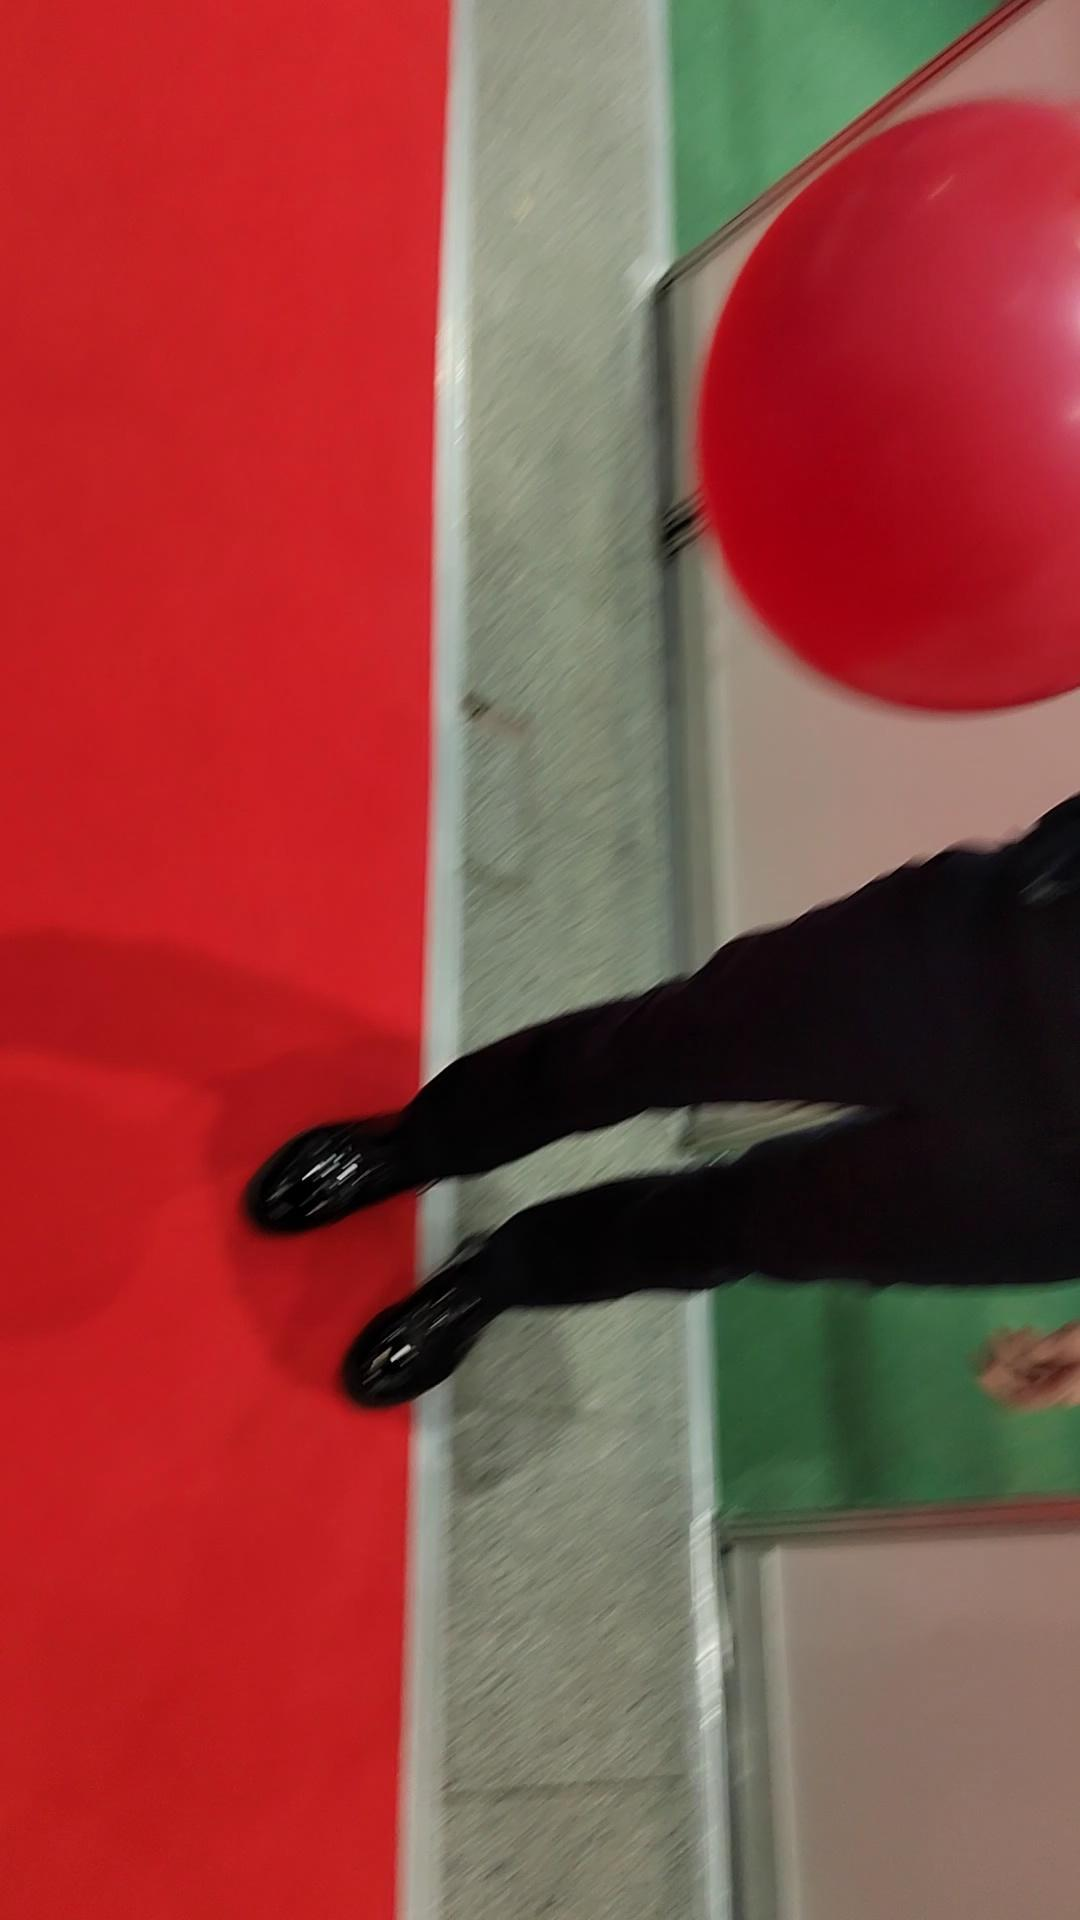red: (687, 95, 1080, 731)
